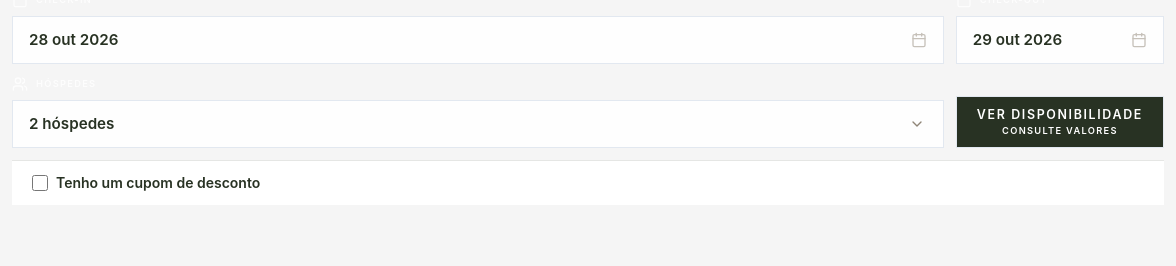
Test: SearchWidget › abre o campo de cupom no buscador da página inicial
expect the field labelled "Código do cupom" is not shown: met
Click the checkbox named "adicionar cupom à busca". click: (40, 183)
box: x1=32 y1=175 x2=48 y2=191
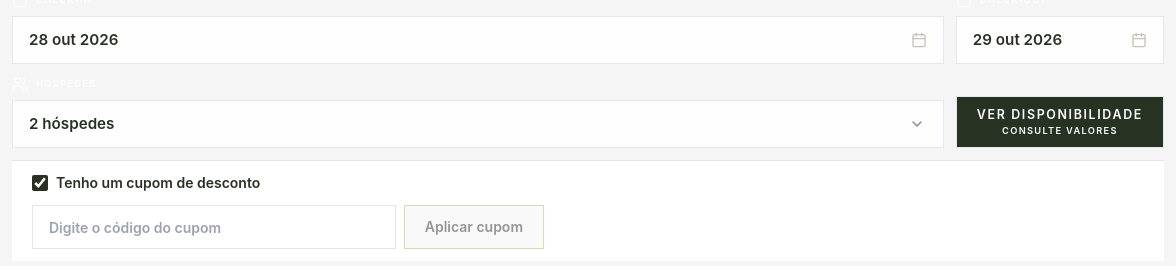
expect the field labelled "código do cupom" is shown: met, box x1=32 y1=205 x2=396 y2=249
